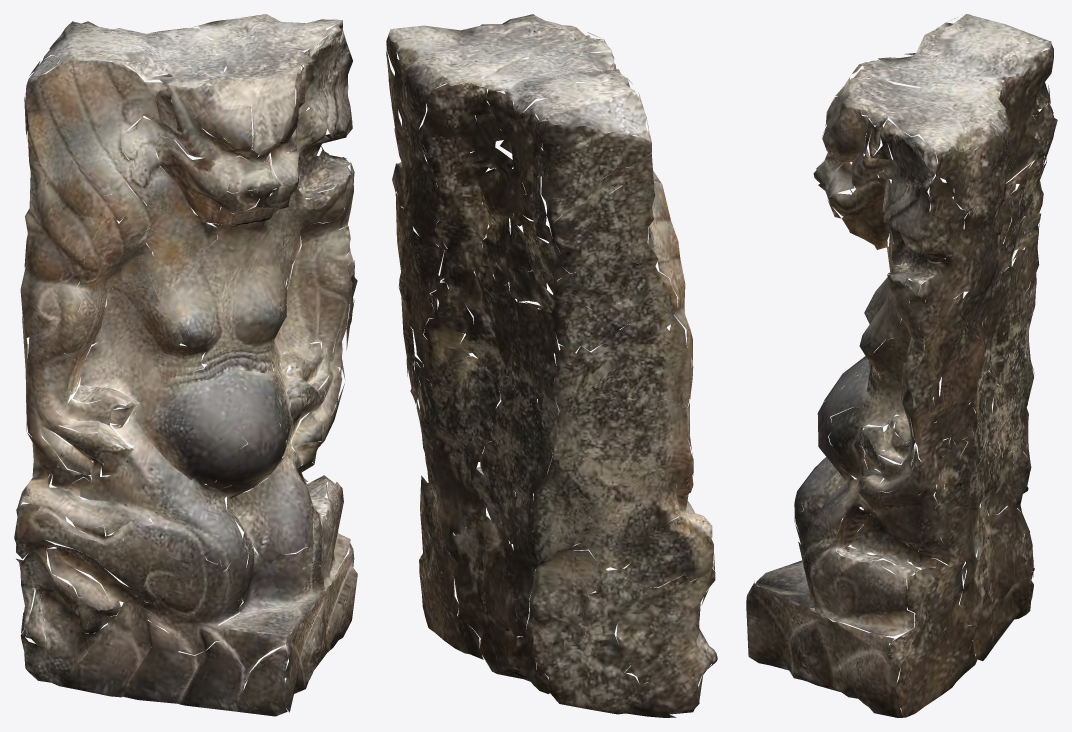
File: si_kneeling_winged_monster.gltf
3 views of the same model, side by side, from view 1: azimuth 30°, elevation 25°; view 2: azimuth 150°, elevation 25°; view 3: azimuth 270°, elevation 25° (orthographic). The views are drawn at different scales.
Parts seen in each view (by area): view 1: unit_fix; view 2: unit_fix; view 3: unit_fix.
Boxes of the visible parts, x1,y1,x2,y2 form: unit_fix: [14, 14, 357, 716]; unit_fix: [386, 14, 717, 717]; unit_fix: [746, 14, 1057, 717].
Size of the model in its own units: 0.4937 by 0.8691 by 0.4117.
Materials: 1 (1 with a texture image).
